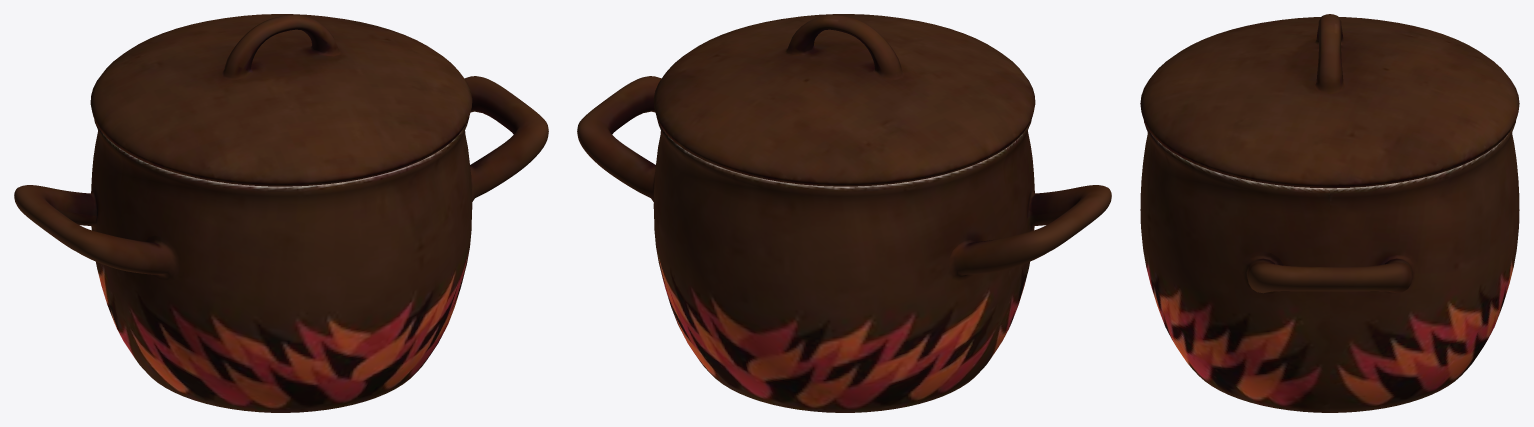
Rendered from pot_enamel_01.glb.
3 views of the same model, side by side, from view 1: azimuth 30°, elevation 25°; view 2: azimuth 150°, elevation 25°; view 3: azimuth 270°, elevation 25° (orthographic).
Parts seen in each view (by area): view 1: pot_enamel_01_base, pot_enamel_01_lid; view 2: pot_enamel_01_base, pot_enamel_01_lid; view 3: pot_enamel_01_base, pot_enamel_01_lid.
Boxes of the visible parts, x1,y1,x2,y2 form: pot_enamel_01_base: [14, 76, 548, 412]; pot_enamel_01_lid: [90, 14, 472, 186]; pot_enamel_01_base: [577, 76, 1111, 412]; pot_enamel_01_lid: [653, 14, 1035, 186]; pot_enamel_01_base: [1140, 121, 1519, 412]; pot_enamel_01_lid: [1140, 14, 1519, 188].
Size of the model in its own units: 0.2629 by 0.1783 by 0.1805.
1 material, 1 textured.
